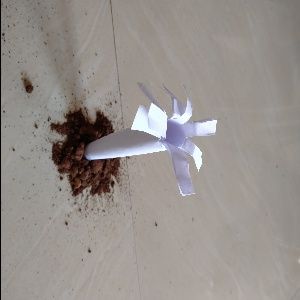weed: (78, 92, 210, 186)
